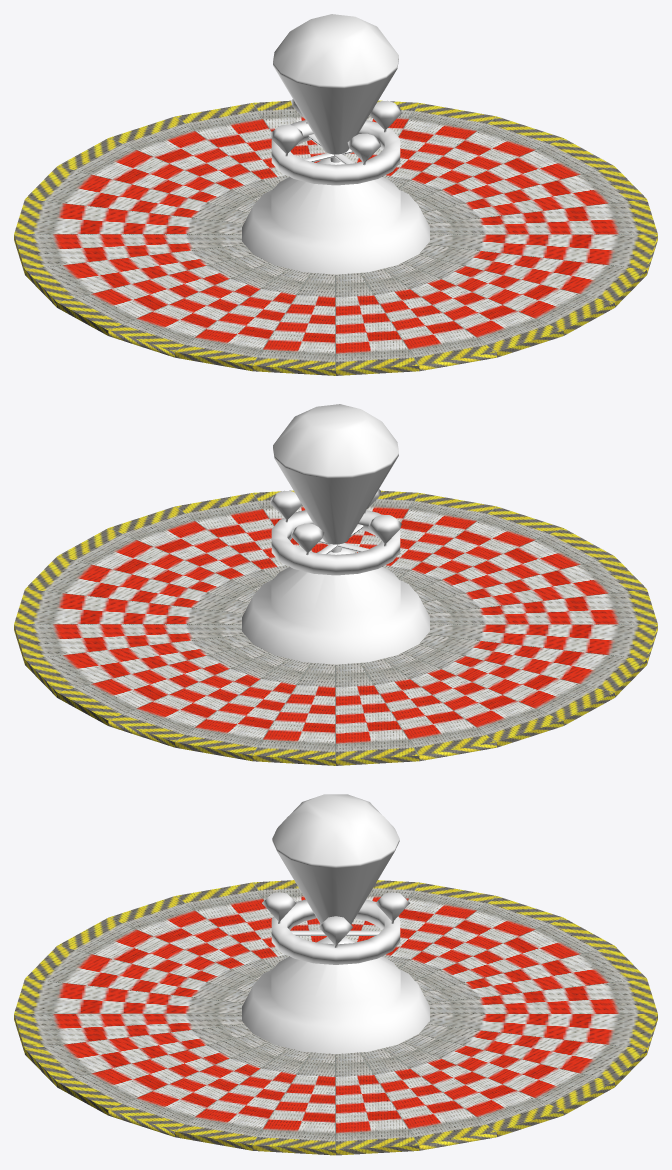
The model's file is breakdance.fbx.
3 renders of one model, top to bottom at view 1: azimuth 30°, elevation 25°; view 2: azimuth 150°, elevation 25°; view 3: azimuth 270°, elevation 25°, orthographic.
Visible parts, largest first — view 1: teller; view 2: teller; view 3: teller.
Part boxes in pixels (x1,y1,x2,y2): teller: (14, 14, 657, 375); teller: (14, 404, 657, 765); teller: (14, 794, 657, 1155).
Size of the model in its own units: 1646 by 599 by 1646.
